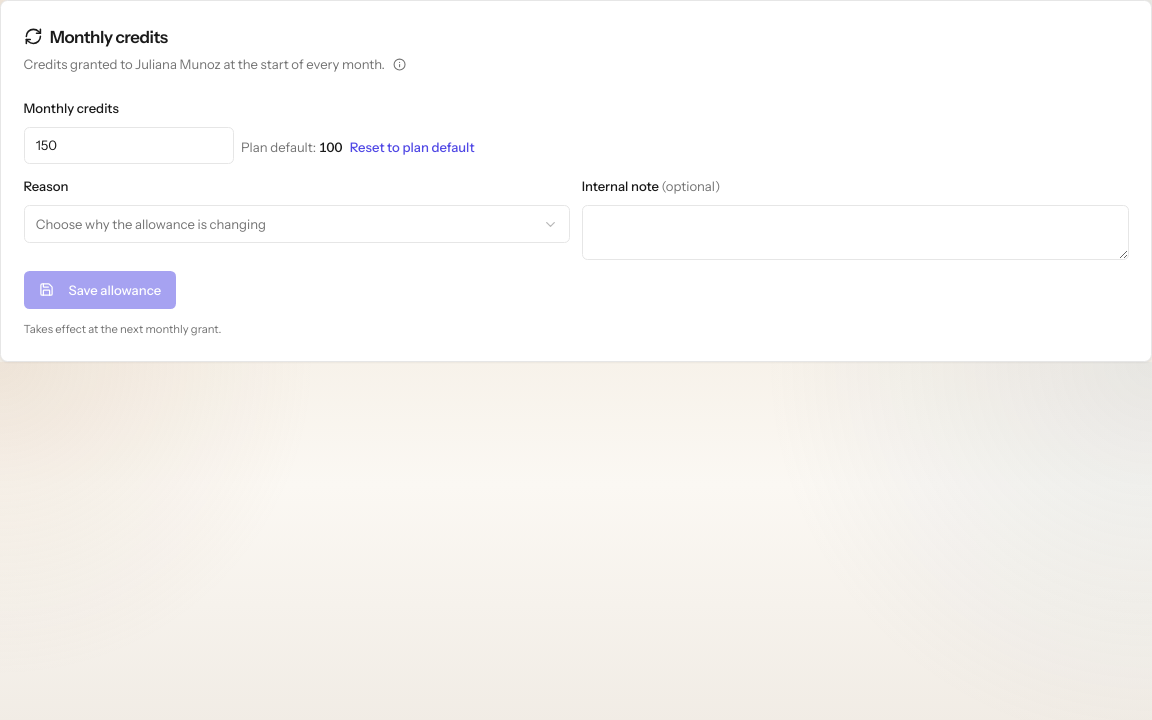
Test case: WorkspaceMonthlyAllowance › shows the plan default, and offers a reset only when overridden
The image size is (1152, 720).
Check: the field labelled "Monthly credits" holds "150", box [24,127,234,164]
Check: the text "Plan default: 100" is shown, box [241,138,342,157]
Click the button "Reset to plan default" at x=412, y=147, box [350,138,474,157]
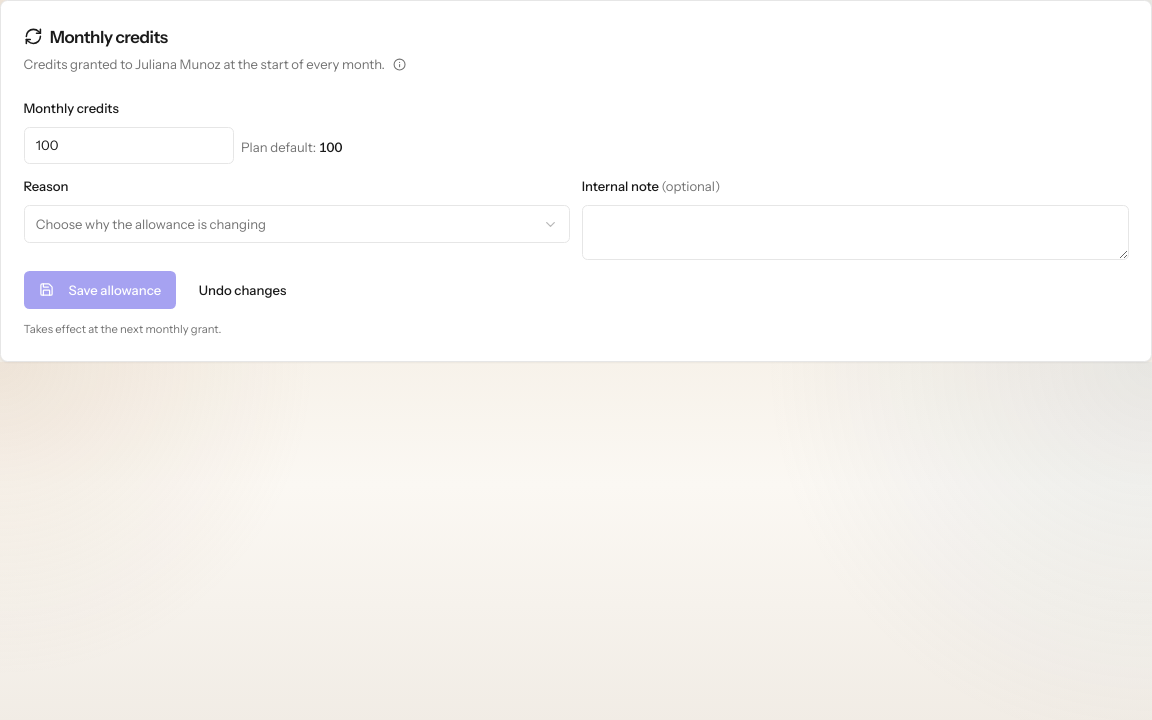
Check: the field labelled "Monthly credits" holds "100", box [24,127,234,164]
Check: the button "Reset to plan default" is gone
